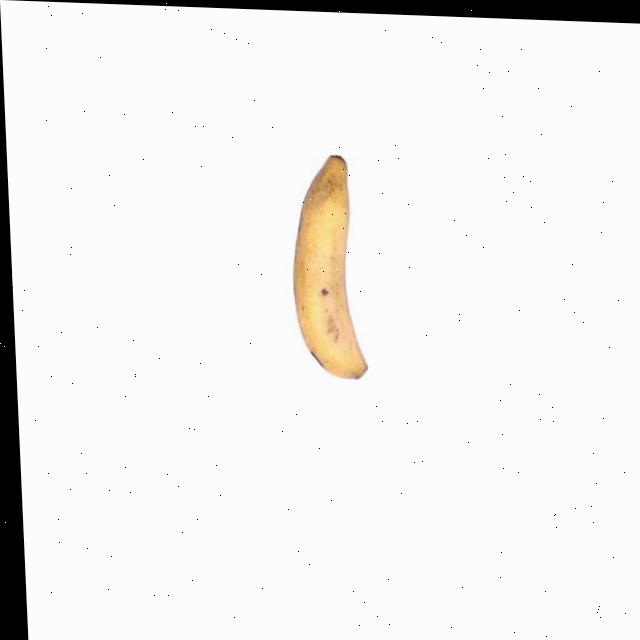banana: (285, 148, 371, 385)
